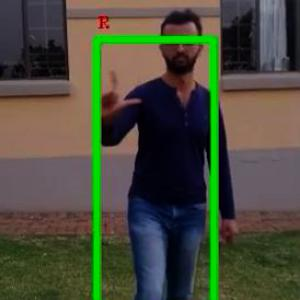land_hand: (98, 66, 154, 130)
